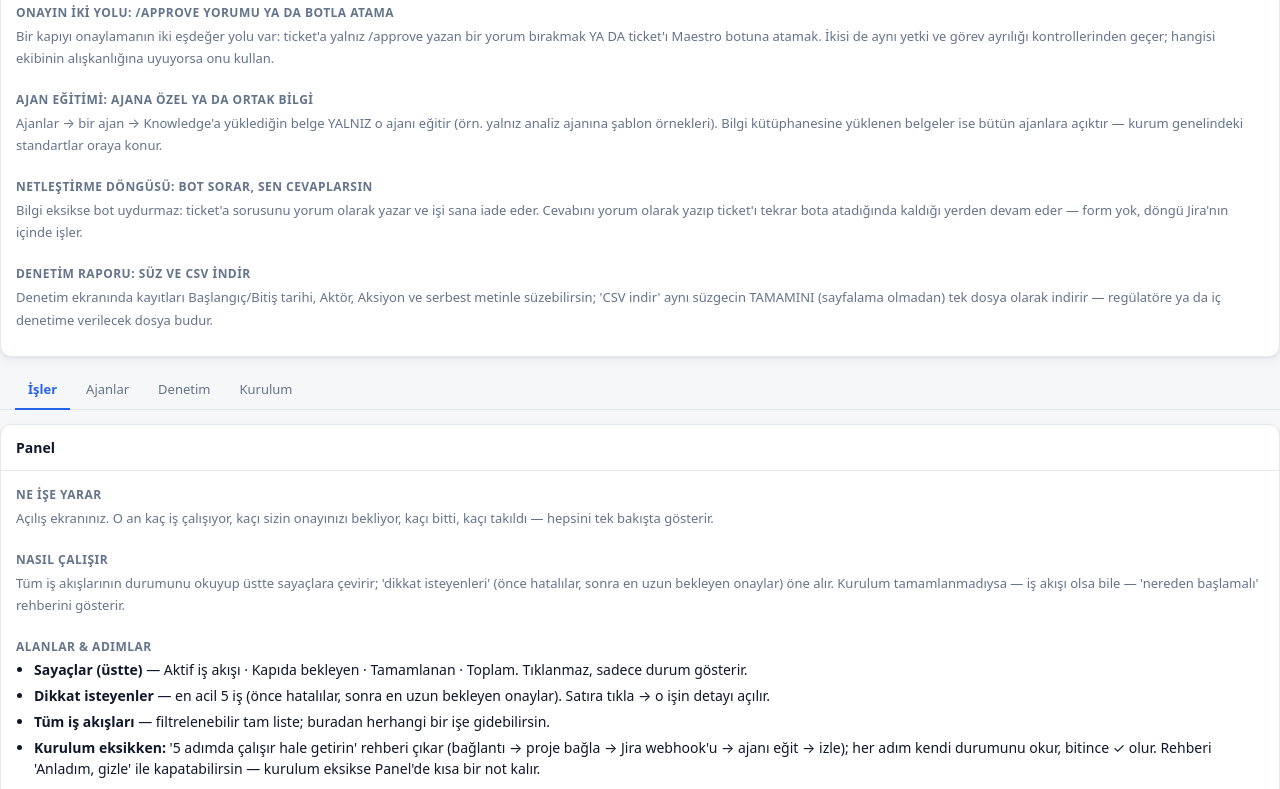
HelpScreen › moves a group's pages with it — agents own the knowledge and template pages
(page scrolled)
What coordinates should you click on to do the following:
click the tab "Ajanlar"
I would click on:
 (108, 390)
Its box is [73, 371, 142, 410].
(page scrolled)
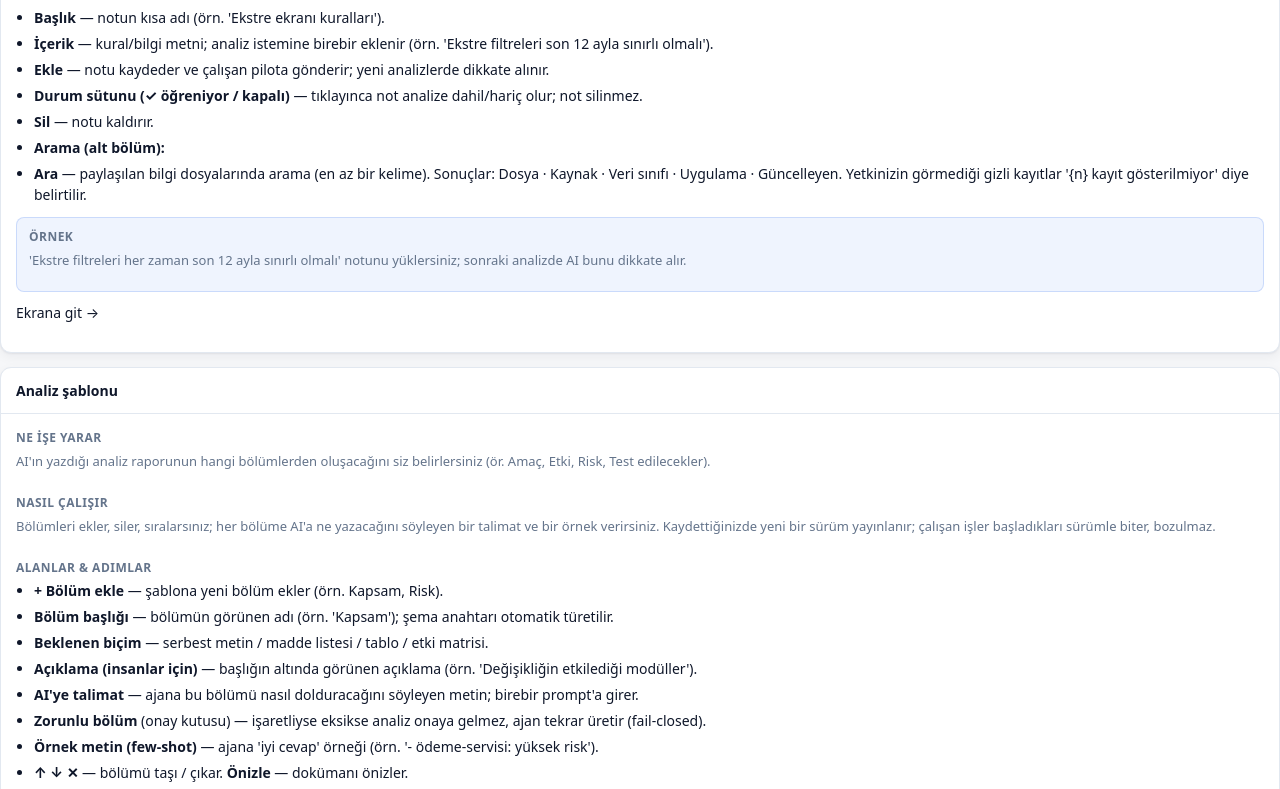
Check: the heading "Analiz şablonu" is shown, box [16, 380, 118, 401]
